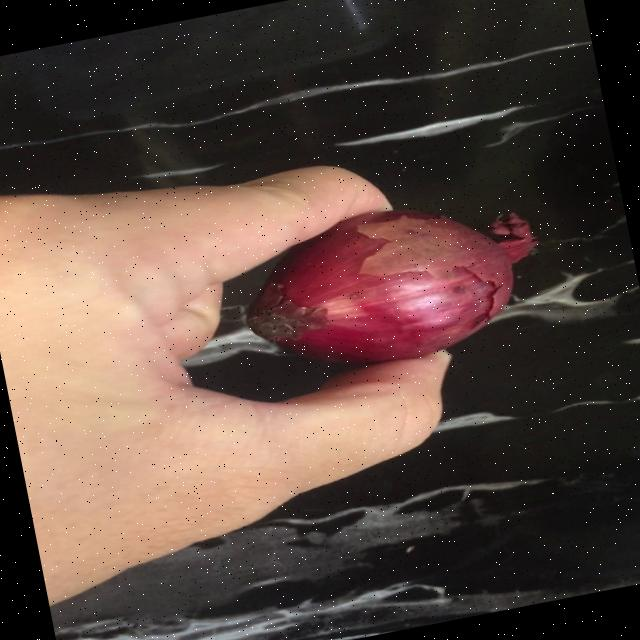Onion: (247, 211, 538, 363)
